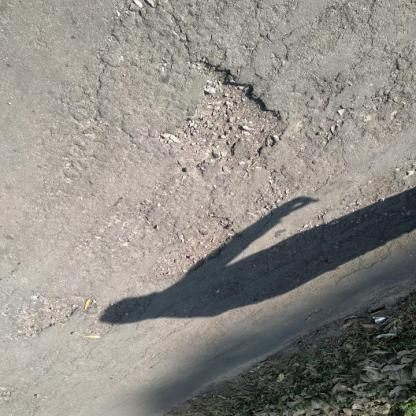pothole: (161, 60, 289, 173), (143, 215, 237, 284), (14, 296, 81, 339)
